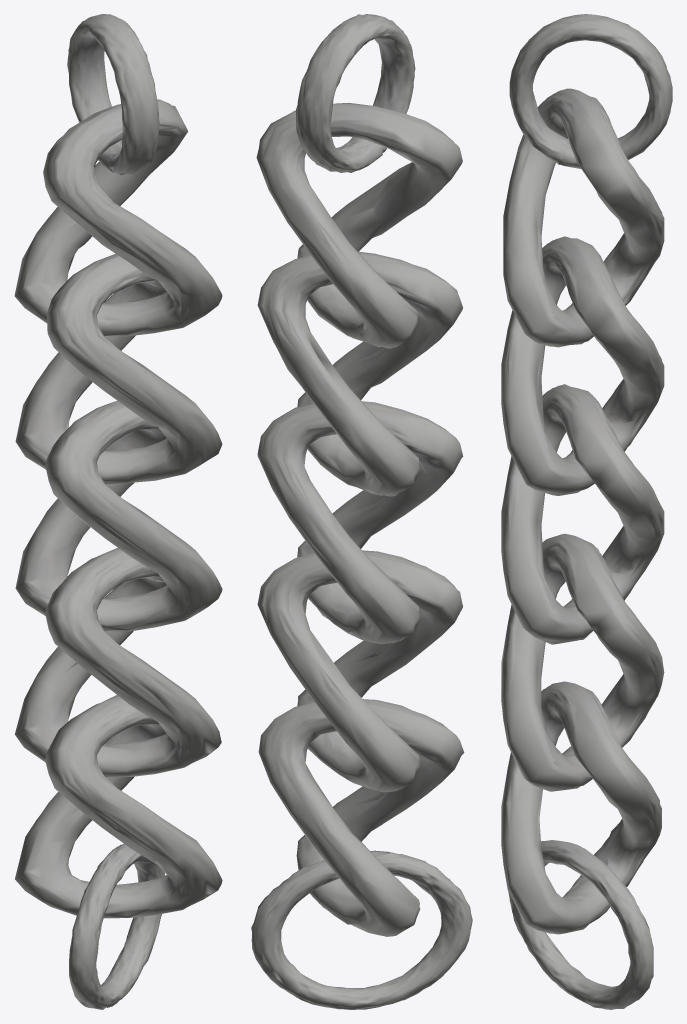
Rendered from chain.glb.
The picture shows the model from 3 angles, left to right: view 1: azimuth 30°, elevation 25°; view 2: azimuth 150°, elevation 25°; view 3: azimuth 270°, elevation 25°; orthographic projection.
Parts seen in each view (by area): view 1: tripo_node_186de068-1729-4b73-bf05-08f973d54d92; view 2: tripo_node_186de068-1729-4b73-bf05-08f973d54d92; view 3: tripo_node_186de068-1729-4b73-bf05-08f973d54d92.
Part boxes in pixels (<box>): tripo_node_186de068-1729-4b73-bf05-08f973d54d92: <box>14,14,222,1009</box>; tripo_node_186de068-1729-4b73-bf05-08f973d54d92: <box>251,14,472,1009</box>; tripo_node_186de068-1729-4b73-bf05-08f973d54d92: <box>501,14,672,1009</box>.
Bounding box in the file's own units: 0.0348 × 0.2 × 0.0317.
Materials: 1 (1 with a texture image).
